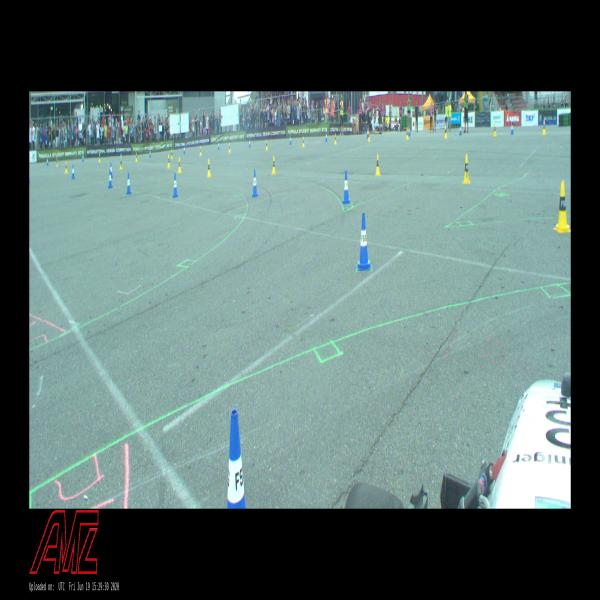blue_cone: (227, 408, 246, 509), (357, 213, 371, 271), (342, 171, 350, 204), (251, 169, 258, 198), (172, 172, 179, 198), (126, 172, 132, 194), (108, 169, 113, 188), (71, 163, 75, 178), (110, 162, 113, 178), (459, 122, 462, 135), (511, 121, 514, 134), (248, 138, 251, 148), (217, 141, 220, 150), (325, 131, 327, 142), (408, 125, 410, 136), (290, 134, 292, 144), (367, 128, 368, 138)
yellow_cone: (554, 181, 570, 233), (462, 153, 470, 185), (375, 152, 381, 176), (272, 155, 276, 176), (207, 159, 211, 178), (542, 119, 546, 136), (178, 156, 182, 173), (493, 121, 497, 137), (64, 160, 68, 173), (167, 154, 170, 168), (406, 127, 409, 140), (444, 125, 447, 138), (334, 133, 337, 145), (302, 136, 305, 148), (367, 131, 370, 142), (228, 142, 231, 153), (199, 145, 202, 156), (266, 139, 268, 151), (171, 149, 173, 159)
